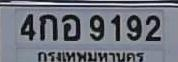1: (110, 14, 119, 40)
2: (145, 14, 160, 40)
4: (20, 13, 34, 40)
9: (126, 14, 141, 40), (89, 14, 103, 40)
A01: (39, 13, 57, 40)
A43: (61, 14, 80, 40)
BKK: (35, 48, 145, 62)
